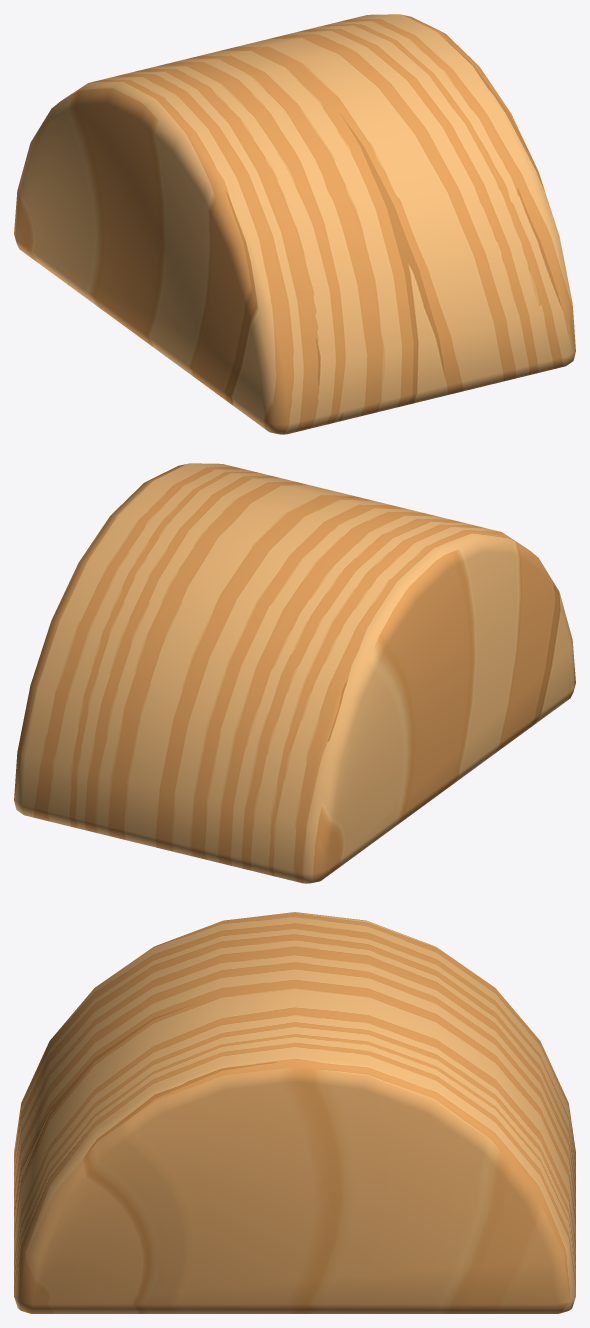
The model's file is HalfCylinder.fbx.
The picture shows the model from 3 angles, top to bottom: view 1: azimuth 30°, elevation 25°; view 2: azimuth 150°, elevation 25°; view 3: azimuth 270°, elevation 25°; orthographic projection. The views are drawn at different scales.
Visible parts, largest first — view 1: HalfCylinder; view 2: HalfCylinder; view 3: HalfCylinder.
Boxes of the visible parts, x1,y1,x2,y2 form: HalfCylinder: [14, 14, 575, 434]; HalfCylinder: [14, 463, 575, 883]; HalfCylinder: [14, 912, 575, 1313].
Size of the model in its own units: 12.54 by 9.4 by 18.64.
